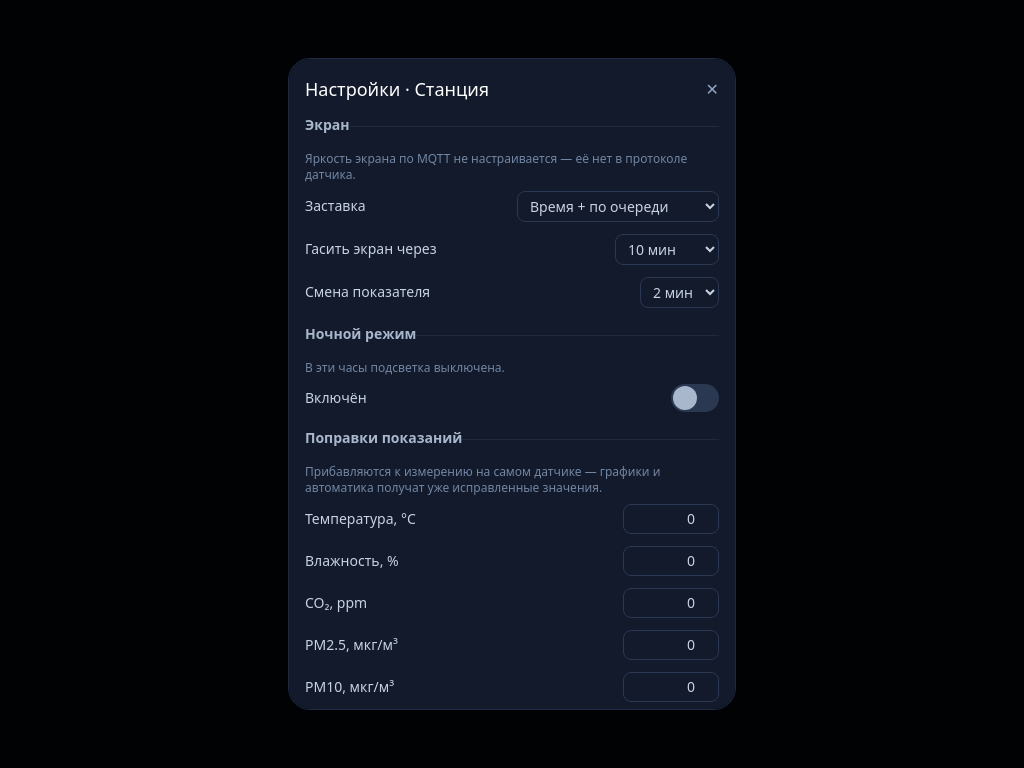
Scenario: QingpingSettings › читает конфиг с датчика и сохраняет только изменённое
The image size is (1024, 768).
Step 1. Replace the text in the number field named "Поправка: Влажность, %" with "-2.5" → (671, 561), box [623, 546, 719, 576]
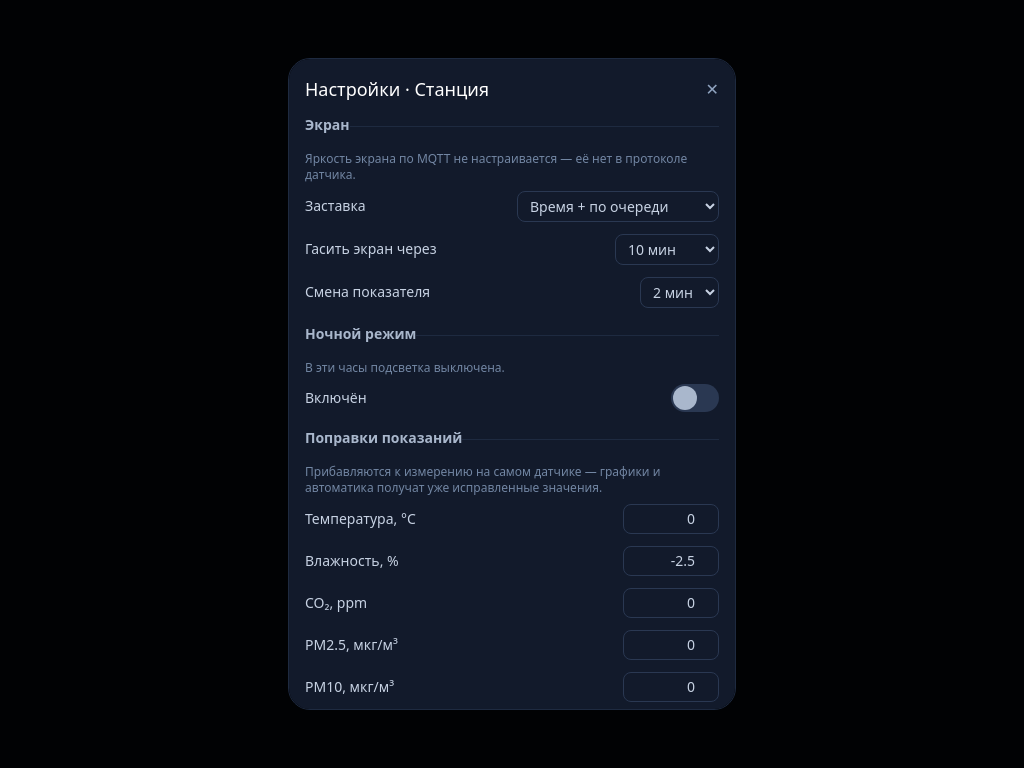
Step 2. Click the switch named "Включён" → click(695, 398), box [671, 384, 719, 412]
(page scrolled)
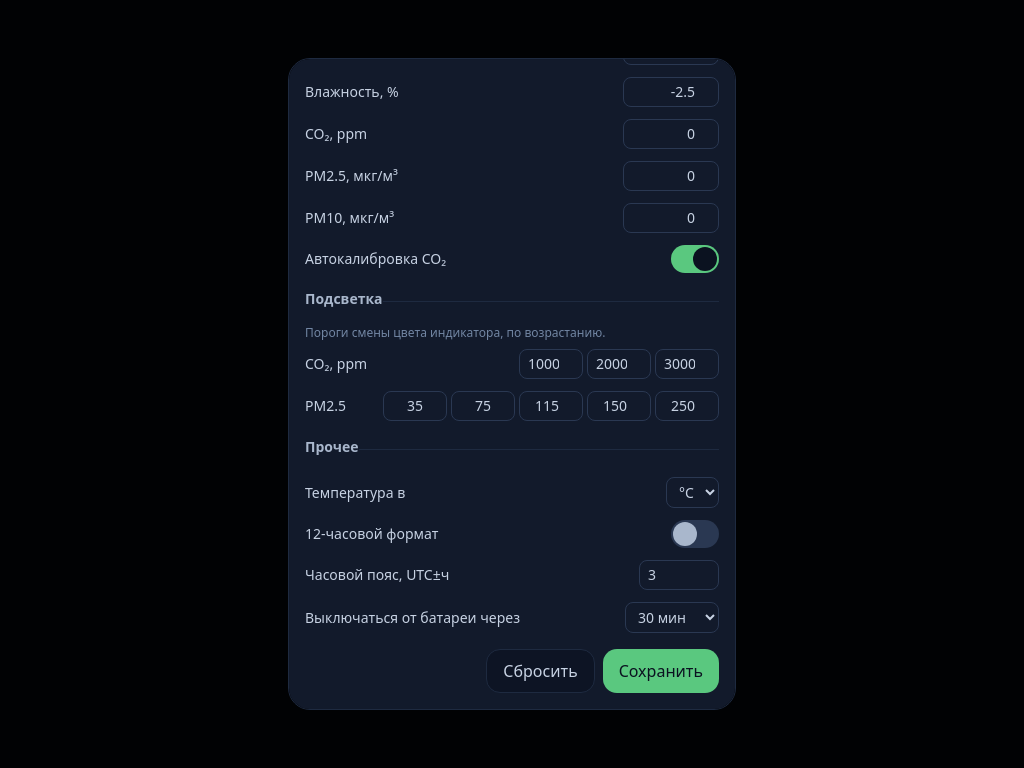
Step 3. Click the button "Сохранить" → click(661, 671), box [603, 649, 719, 693]
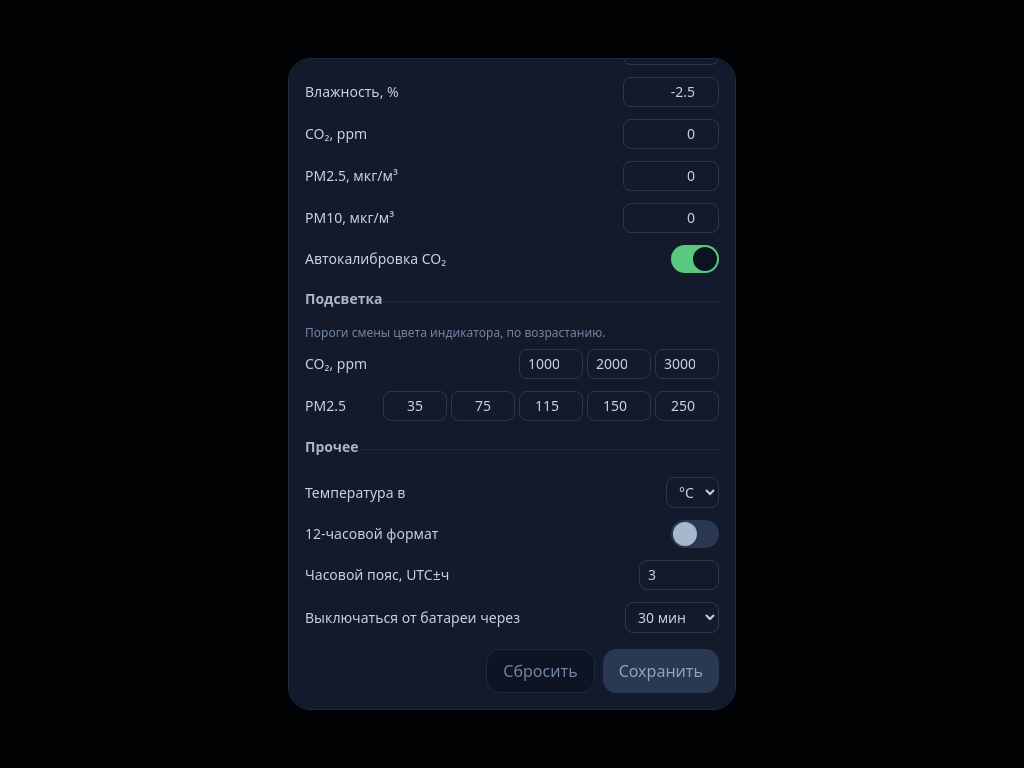
Result: the button "Сохранить" is disabled at [603, 649, 719, 693]
